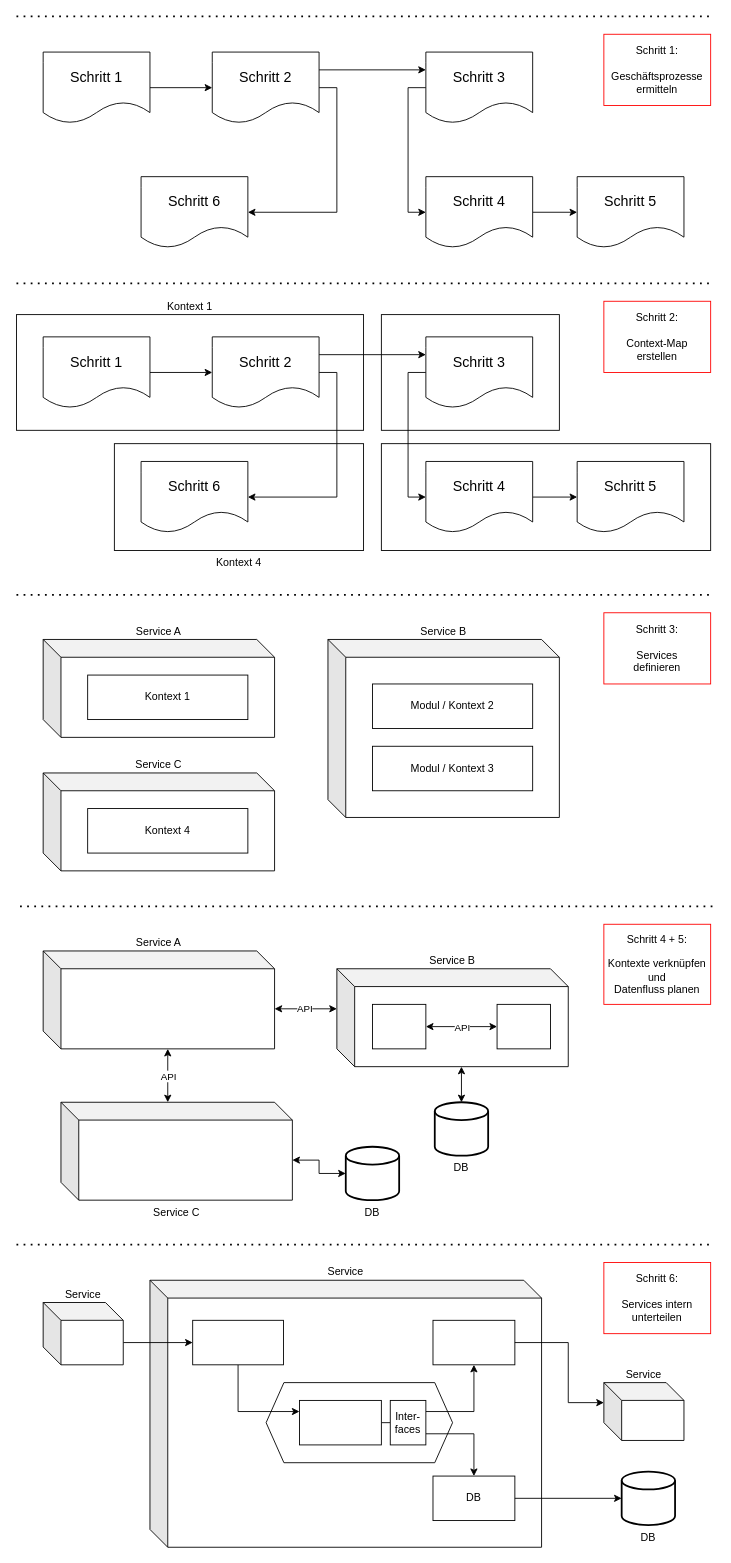
Some shapes in this 731 by 1563 pixel diagram are drawn without their labels. The shapes that lost their labels are listed below. From the top down, each one's box as (x1, y1, x2, y2) in pixels, then its label:
(380, 314, 559, 430): Kontext 2
(380, 443, 711, 550): Kontext 3
(192, 1319, 283, 1365): API (in)
(432, 1319, 515, 1365): API (out)
(299, 1400, 381, 1445): Business Logik
